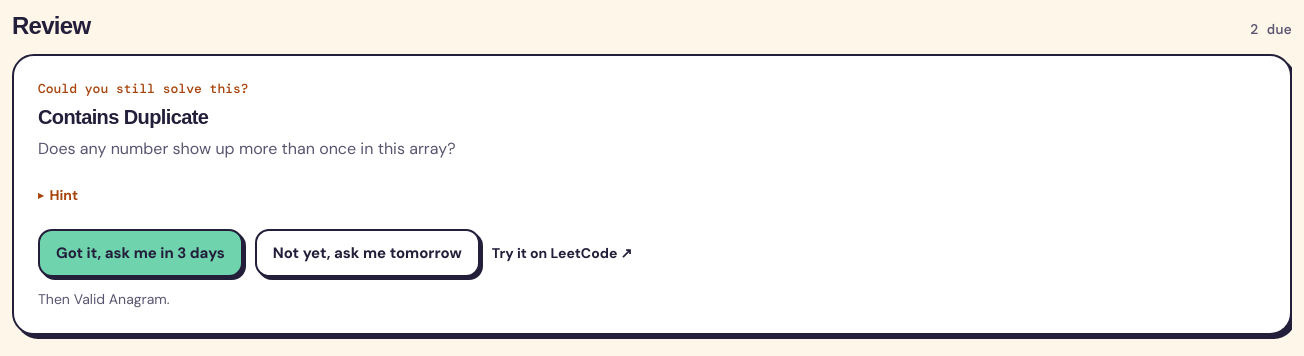
Test case: ReviewQueue › works down due problems one at a time
The width and height of the screenshot is (1304, 356).
Check: the text "2 due" is shown, box top-left (1250, 20), bottom-right (1292, 38)
Step 1. Click the button "Got it, ask me in 3 days" → click(140, 253), box top-left (38, 229), bottom-right (243, 277)
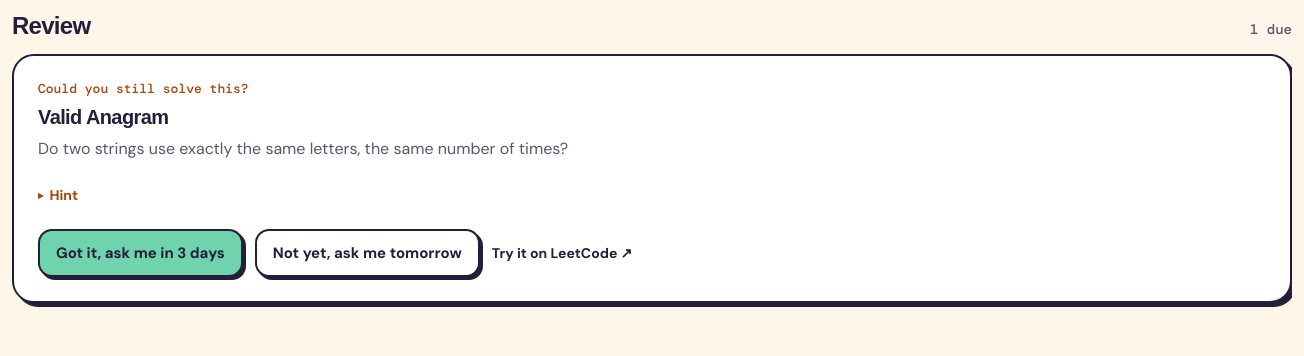
Check: the text "1 due" is shown, box top-left (1250, 20), bottom-right (1292, 38)
Step 2. Click the button "Got it, ask me in 3 days" → click(140, 253), box top-left (38, 229), bottom-right (243, 277)
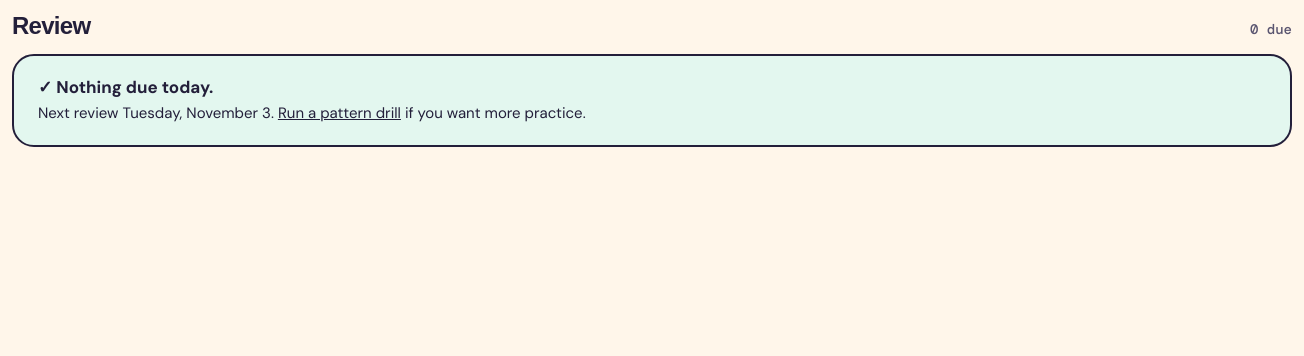
Check: the message shows "Nothing due today.", box top-left (56, 76), bottom-right (213, 98)
